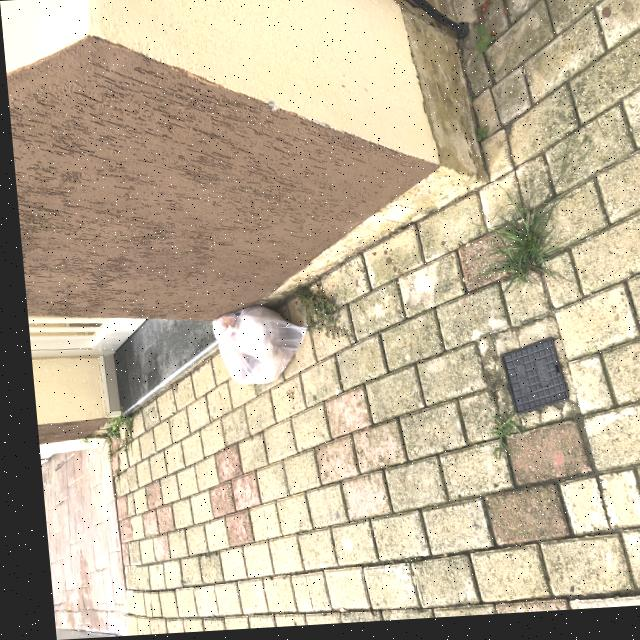Organic Waste -White Bag-: (206, 306, 305, 388)
